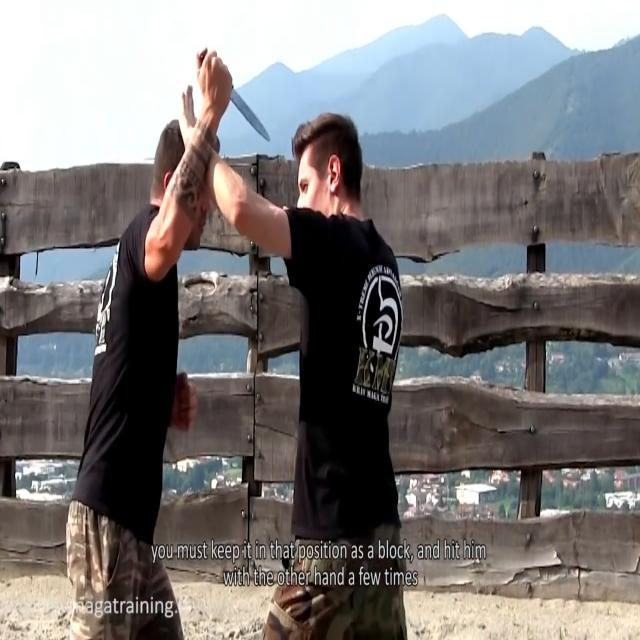knife: (229, 86, 273, 146)
